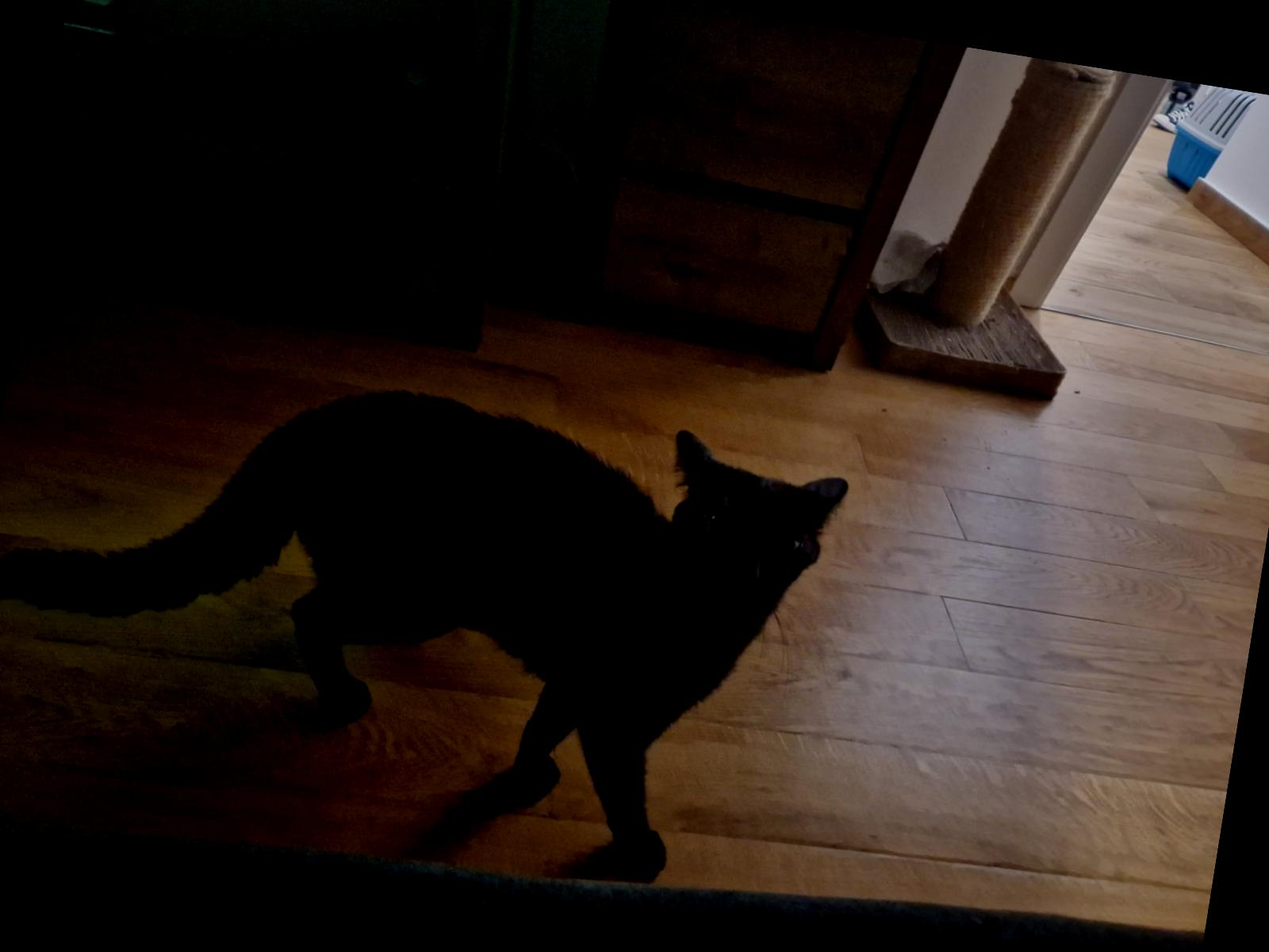macka: (0, 329, 849, 912)
